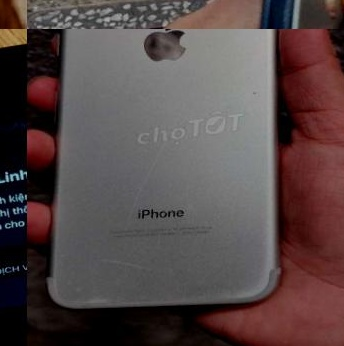scratch: (96, 59, 224, 222), (84, 240, 176, 286), (78, 287, 120, 311)
